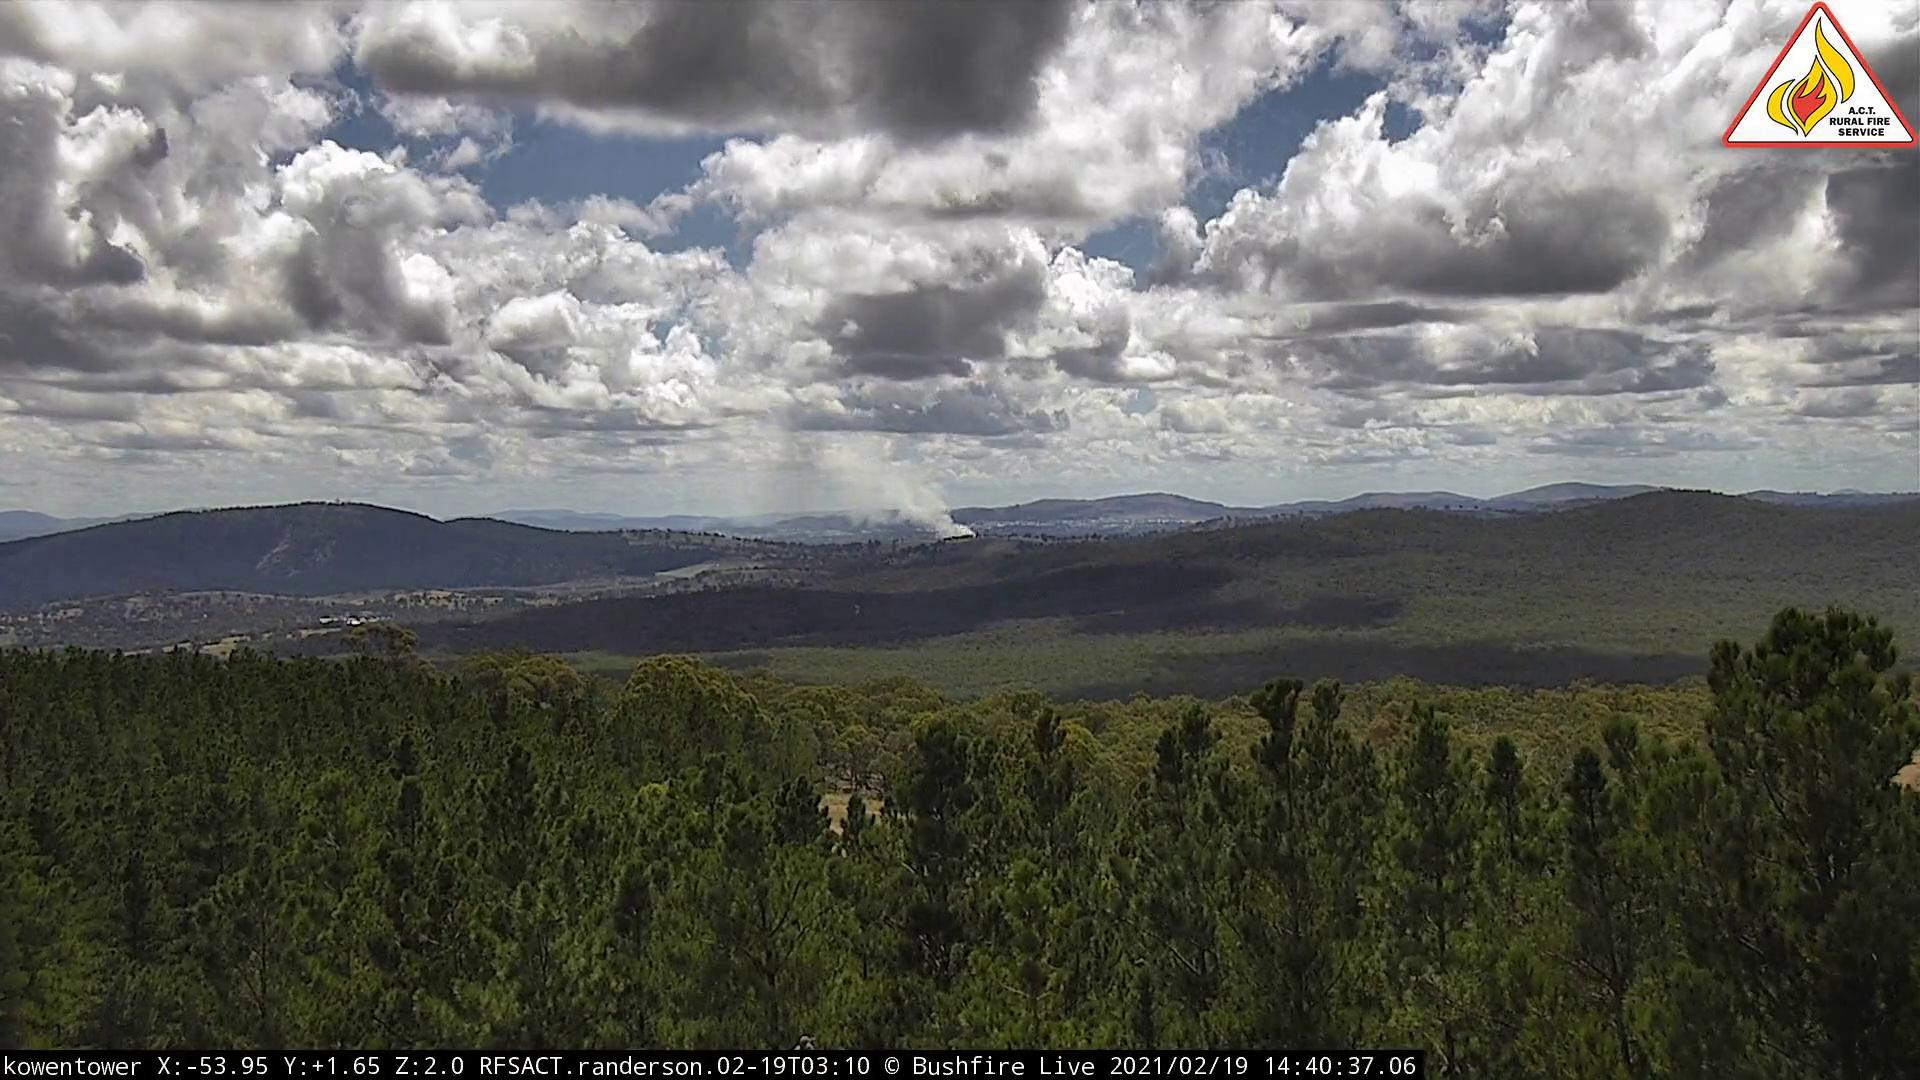Smoke: (749, 440, 982, 549)
